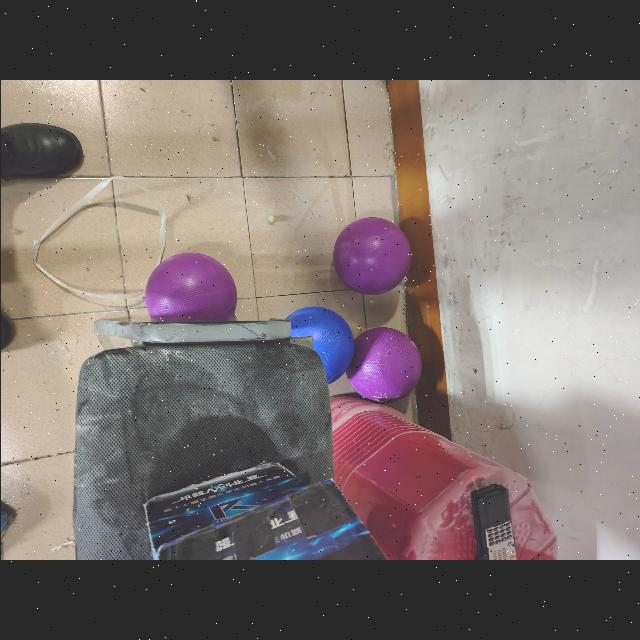B: (272, 306, 354, 389)
P: (145, 253, 241, 347), (330, 216, 410, 294), (346, 326, 424, 400)
